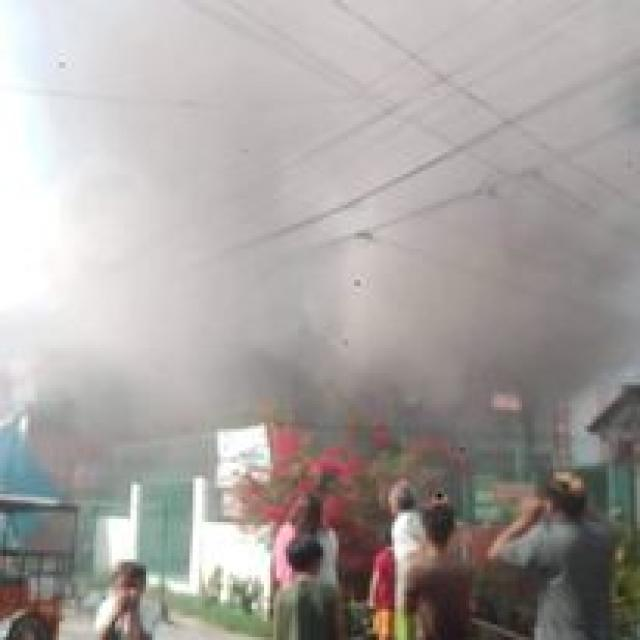Smoke: (0, 0, 640, 489)
